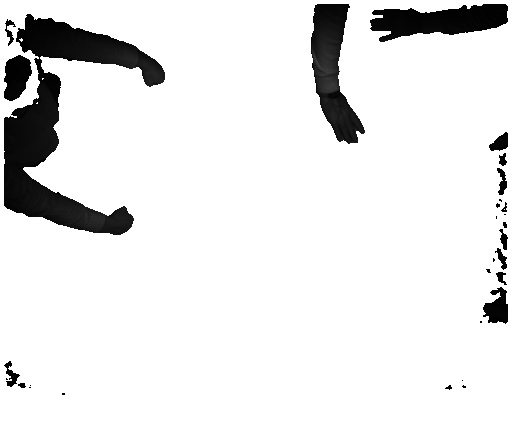fist: (108, 201, 135, 239), (141, 60, 167, 87)
hand: (368, 8, 421, 47), (322, 100, 367, 143)
